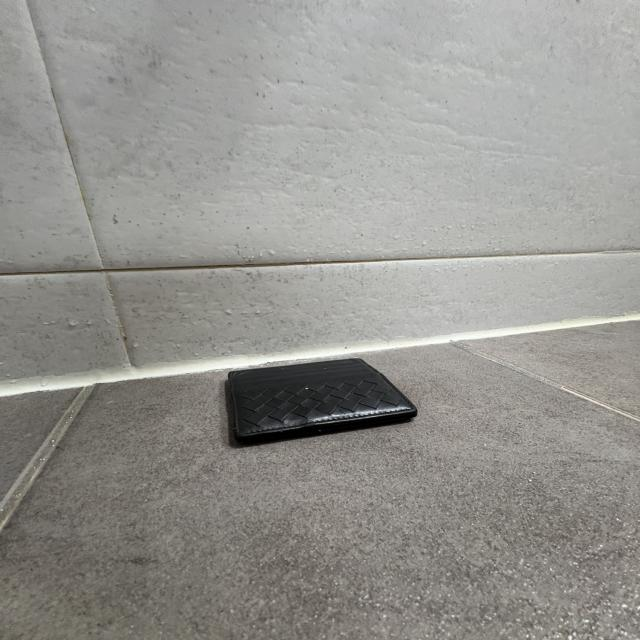wallet: (227, 355, 418, 457)
